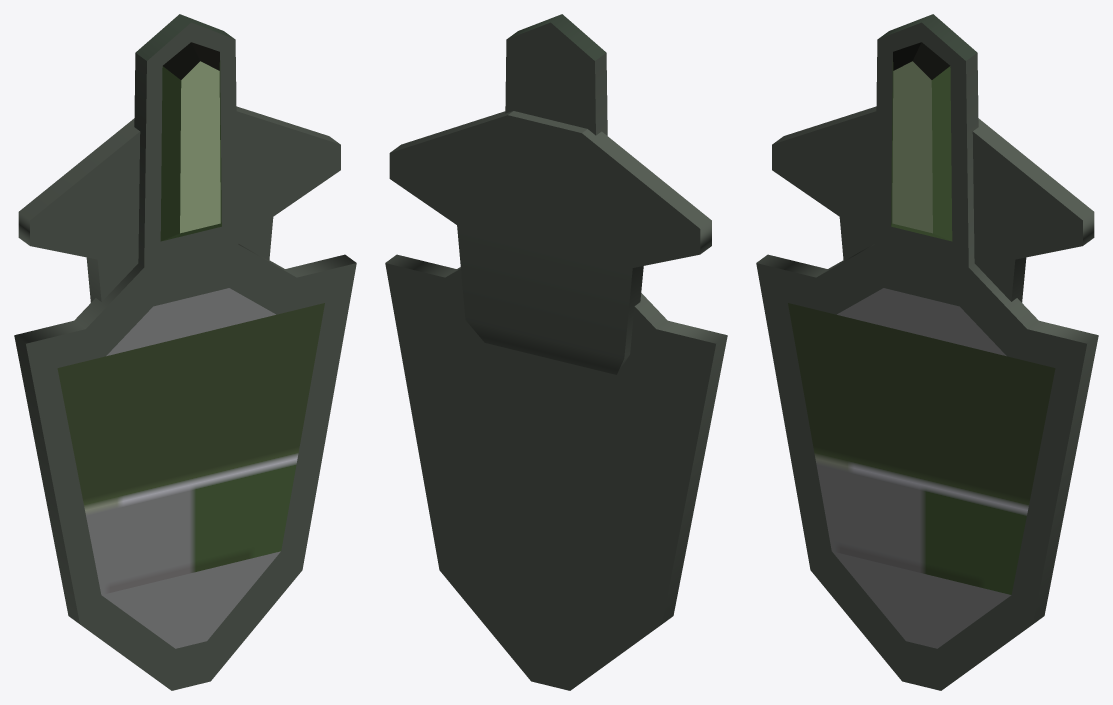
The model's file is SF_Wep_Elven_Sheild_012.glb.
3 renders of one model, left to right at view 1: azimuth 30°, elevation 25°; view 2: azimuth 150°, elevation 25°; view 3: azimuth 330°, elevation 25°, orthographic.
Parts seen in each view (by area): view 1: SF_Wep_Elven_Sheild_012; view 2: SF_Wep_Elven_Sheild_012; view 3: SF_Wep_Elven_Sheild_012.
Part boxes in pixels (<box>): SF_Wep_Elven_Sheild_012: <box>14,14,356,690</box>; SF_Wep_Elven_Sheild_012: <box>385,14,727,690</box>; SF_Wep_Elven_Sheild_012: <box>756,14,1098,690</box>.
Size of the model in its own units: 0.00794 by 0.0152 by 0.0011.
Materials: 1 (1 with a texture image).
